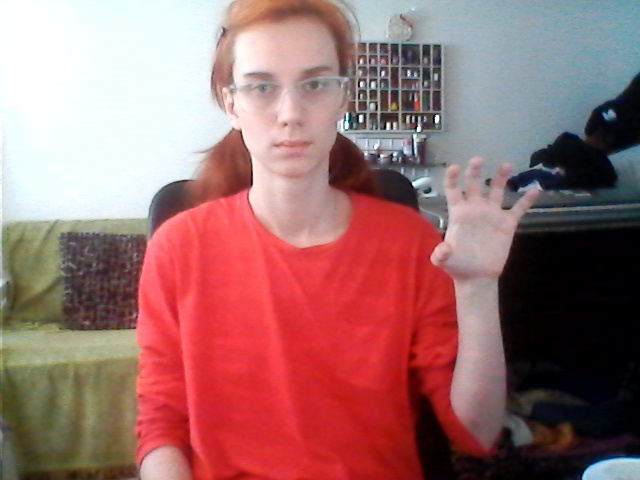budova: (426, 153, 544, 302)
